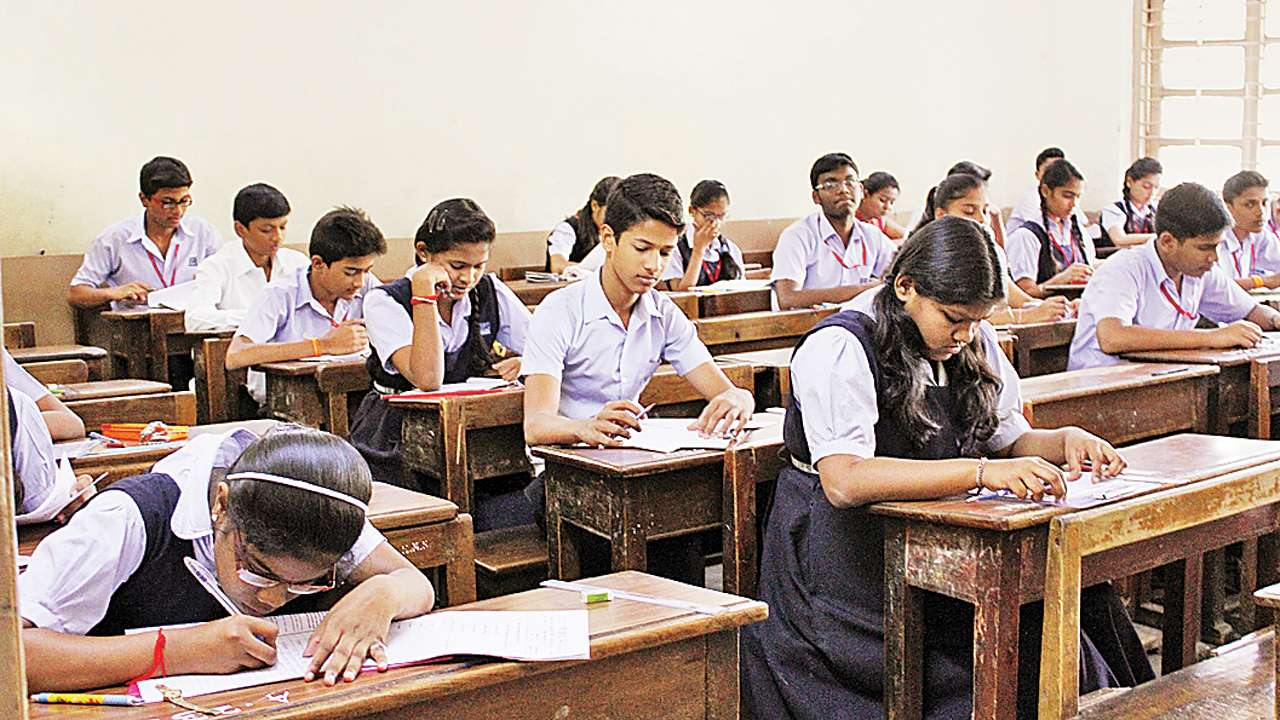student: (64, 426, 473, 687), (509, 186, 751, 501), (784, 222, 1004, 564), (361, 198, 537, 464), (207, 173, 315, 360), (91, 148, 200, 332), (771, 152, 884, 307), (292, 201, 389, 369)
